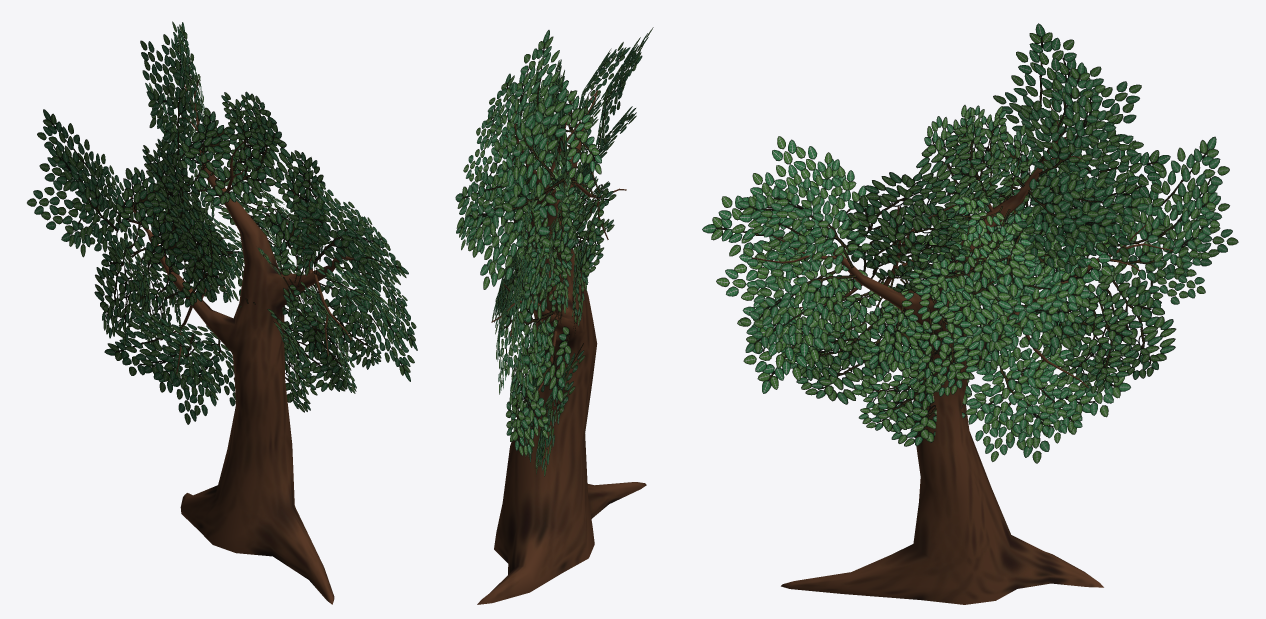
Rendered from arbol2bosque.fbx.
3 renders of one model, left to right at view 1: azimuth 30°, elevation 25°; view 2: azimuth 150°, elevation 25°; view 3: azimuth 270°, elevation 25°, orthographic. The views are drawn at different scales.
Parts seen in each view (by area): view 1: tronco_Group3, hojasbosque_pPlane25, hojasbosque_pPlane35, hojasbosque_pPlane37, hojasbosque_pPlane28, hojasbosque_pPlane33, hojasbosque_pPlane36, hojasbosque_pPlane30, hojasbosque_pPlane29, hojasbosque_pPlane27, hojasbosque_pPlane34, hojasbosque_pPlane26 (+18 smaller); view 2: tronco_Group3, hojasbosque_pPlane30, hojasbosque_pPlane31, hojasbosque_pPlane29, hojasbosque_pPlane35, hojasbosque_pPlane27, hojasbosque_pPlane14, hojasbosque_pPlane36, hojasbosque_pPlane20, hojasbosque_pPlane28, hojasbosque_pPlane33, hojasbosque_pPlane37 (+14 smaller); view 3: tronco_Group3, hojasbosque_pPlane17, hojasbosque_pPlane15, hojasbosque_pPlane14, hojasbosque_pPlane18, hojasbosque_pPlane19, hojasbosque_pPlane21, hojasbosque_pPlane23, hojasbosque_pPlane30, hojasbosque_pPlane9, hojasbosque_pPlane24, hojasbosque_pPlane33 (+17 smaller).
Boxes of the visible parts, x1,y1,x2,y2 form: tronco_Group3: [146, 149, 342, 604]; hojasbosque_pPlane25: [180, 107, 291, 205]; hojasbosque_pPlane35: [27, 109, 118, 257]; hojasbosque_pPlane37: [104, 307, 220, 424]; hojasbosque_pPlane28: [145, 206, 230, 307]; hojasbosque_pPlane33: [287, 194, 408, 299]; hojasbosque_pPlane36: [116, 152, 200, 261]; hojasbosque_pPlane30: [140, 21, 199, 154]; hojasbosque_pPlane29: [94, 238, 150, 345]; hojasbosque_pPlane27: [269, 150, 326, 286]; hojasbosque_pPlane34: [314, 263, 414, 381]; hojasbosque_pPlane26: [283, 277, 356, 393]; tronco_Group3: [477, 129, 646, 604]; hojasbosque_pPlane30: [490, 30, 577, 198]; hojasbosque_pPlane31: [455, 143, 568, 289]; hojasbosque_pPlane29: [506, 311, 571, 455]; hojasbosque_pPlane35: [511, 244, 552, 387]; hojasbosque_pPlane27: [532, 72, 601, 204]; hojasbosque_pPlane14: [463, 73, 543, 206]; hojasbosque_pPlane36: [549, 172, 575, 323]; hojasbosque_pPlane20: [517, 186, 549, 302]; hojasbosque_pPlane28: [572, 192, 605, 334]; hojasbosque_pPlane33: [595, 27, 653, 149]; hojasbosque_pPlane37: [535, 343, 585, 476]; tronco_Group3: [781, 167, 1103, 604]; hojasbosque_pPlane17: [737, 152, 877, 272]; hojasbosque_pPlane15: [1012, 158, 1148, 277]; hojasbosque_pPlane14: [1020, 62, 1143, 193]; hojasbosque_pPlane18: [740, 230, 856, 353]; hojasbosque_pPlane19: [1104, 191, 1219, 308]; hojasbosque_pPlane21: [965, 348, 1082, 461]; hojasbosque_pPlane23: [877, 278, 980, 396]; hojasbosque_pPlane30: [993, 23, 1141, 165]; hojasbosque_pPlane9: [943, 105, 1033, 205]; hojasbosque_pPlane24: [909, 196, 1013, 305]; hojasbosque_pPlane33: [702, 136, 859, 283].
Bounding box in the file's own units: 3.92 × 11.04 × 10.07.
